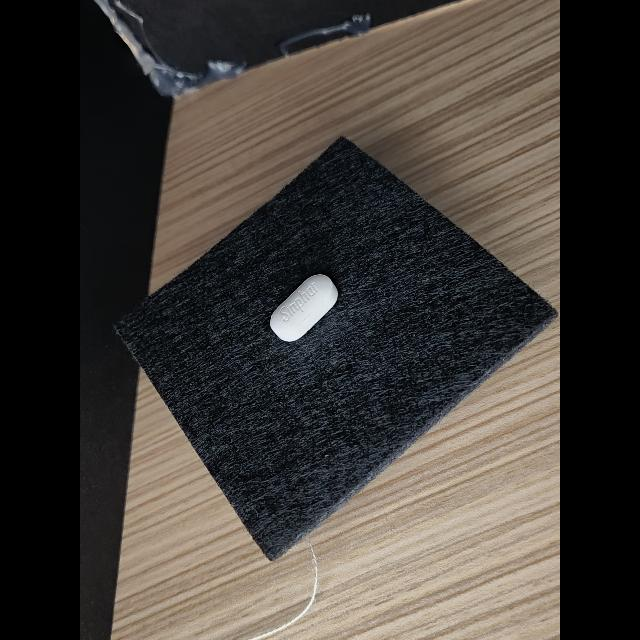Intact Pill: (270, 274, 338, 341)
